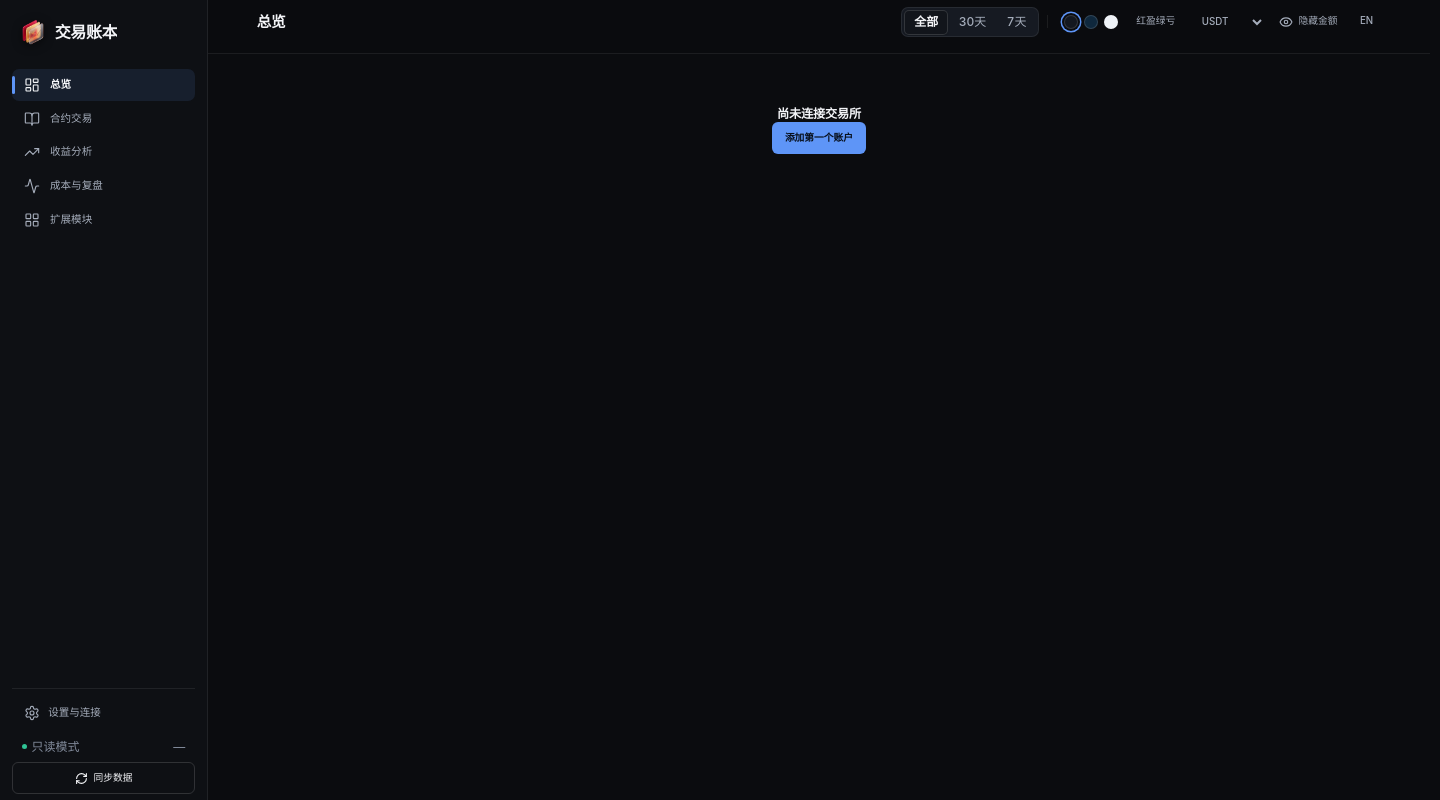
Test case: Warnings, Partial Sync Banners, Sub-Account Onboarding & AuthGate Preferences › opens first-account settings from an empty live ledger and explains an empty sync
Expected: the heading "尚未连接交易所" is shown, [777,106,861,121]
Step 1. Click the button with test id "sync-now-btn" → [104, 778], box [12,762,195,794]
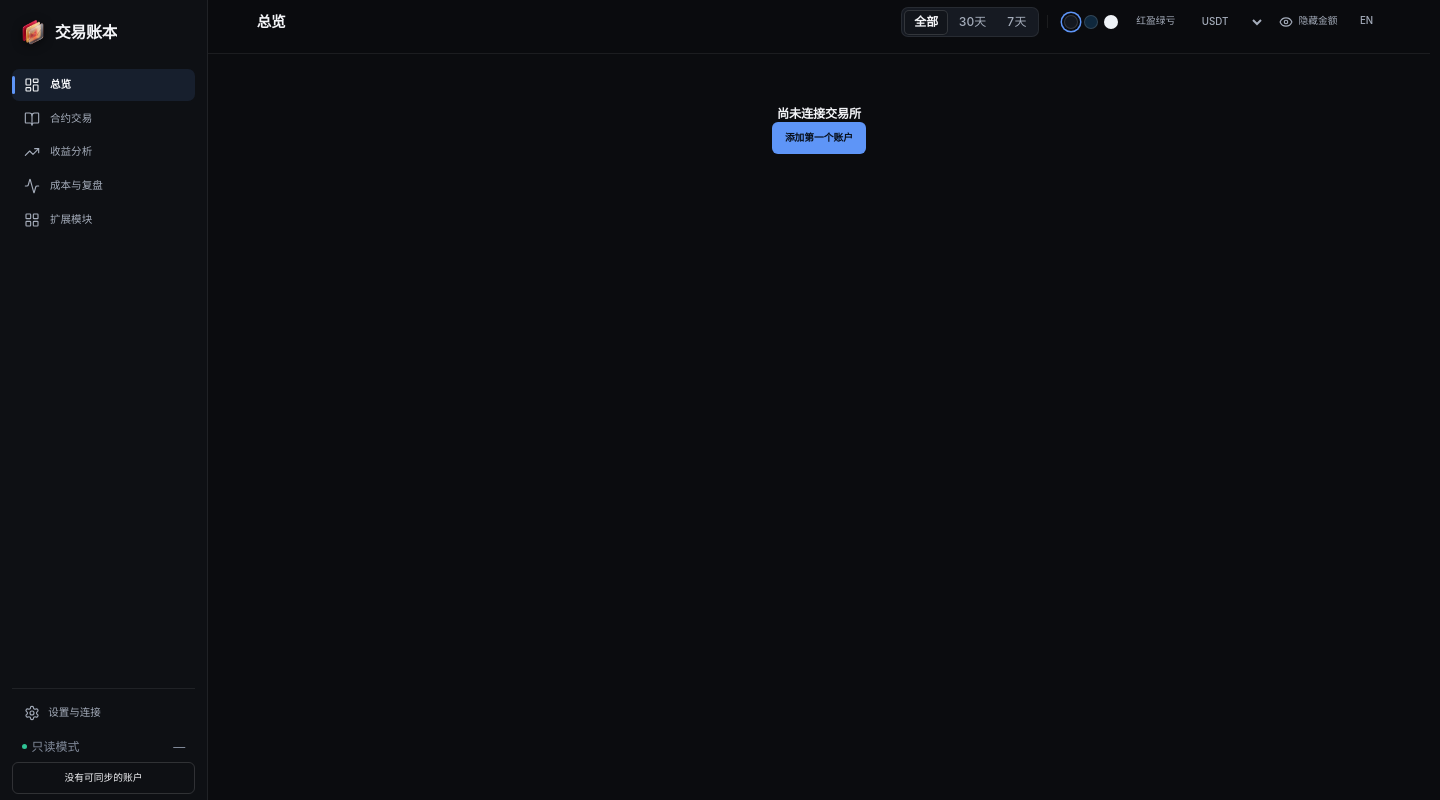
Result: the button with test id "sync-now-btn" reads "没有可同步的账户" at [12,762,195,794]
Step 2. Click the button "添加第一个账户" → [819, 138], box [772,122,866,154]
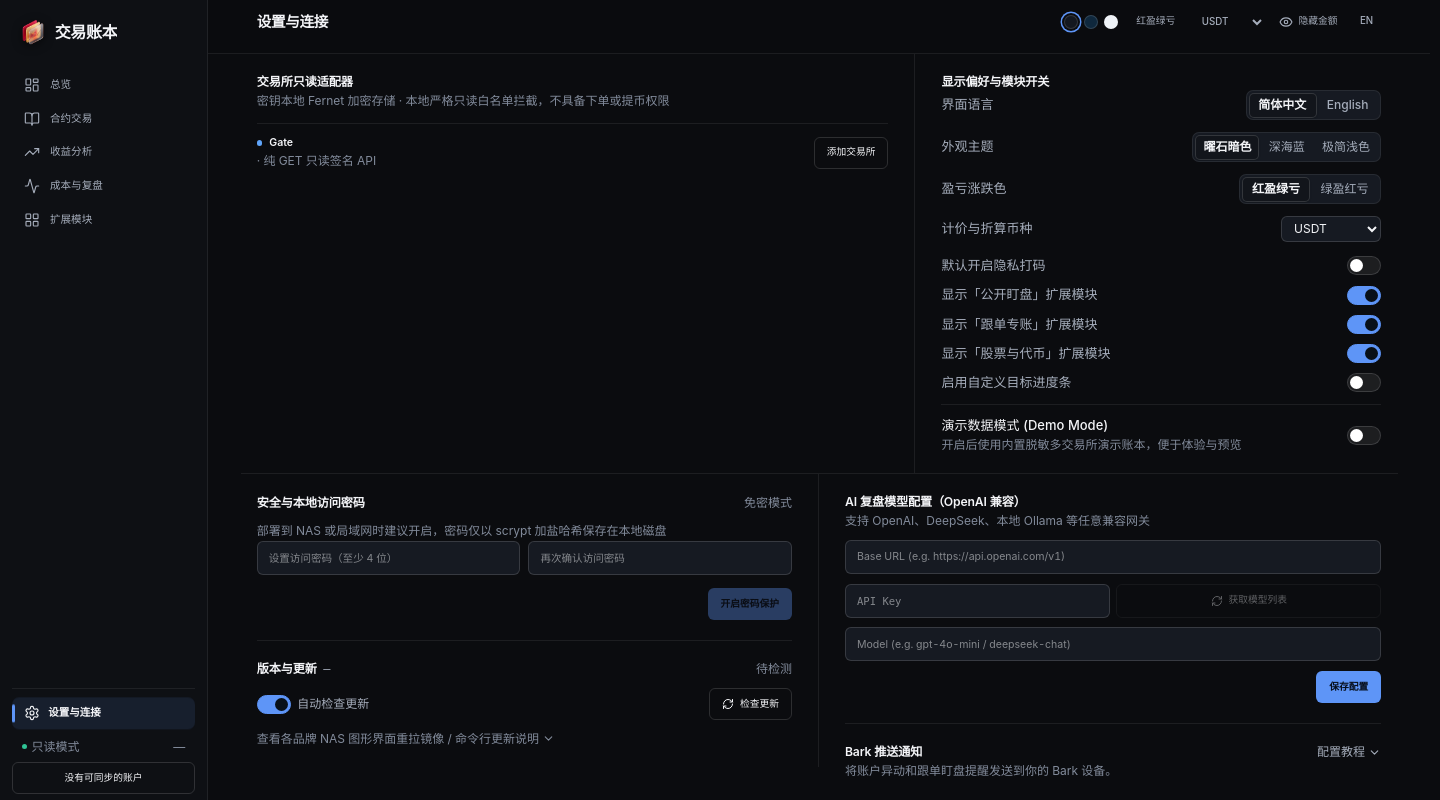
Result: the button with test id "configure-adapter-gate" is shown at [814,137,888,169]
